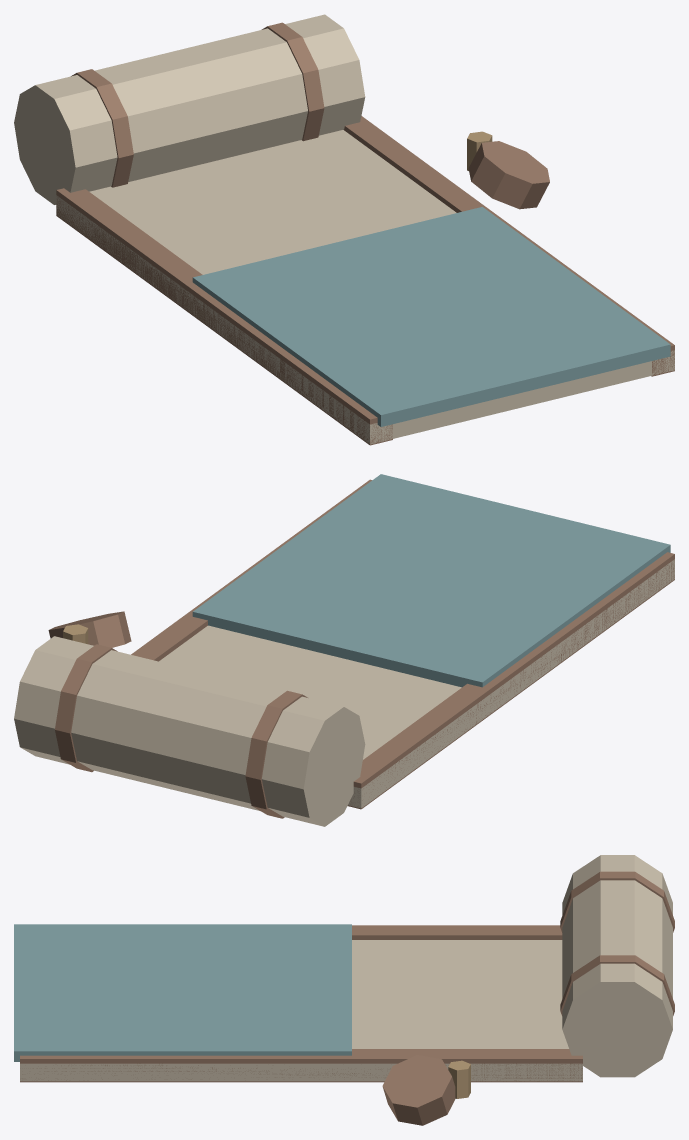
Rendered from bedroll.glb.
3 views of the same model, one above another, from view 1: azimuth 30°, elevation 25°; view 2: azimuth 150°, elevation 25°; view 3: azimuth 270°, elevation 25° (orthographic). The views are drawn at different scales.
Visible parts, largest first — view 1: bedroll; view 2: bedroll; view 3: bedroll.
Boxes of the visible parts, x1,y1,x2,y2 form: bedroll: (14,14,674,445); bedroll: (14,474,674,826); bedroll: (14,855,674,1125).
Size of the model in its own units: 1.05 by 0.2959 by 1.67.
